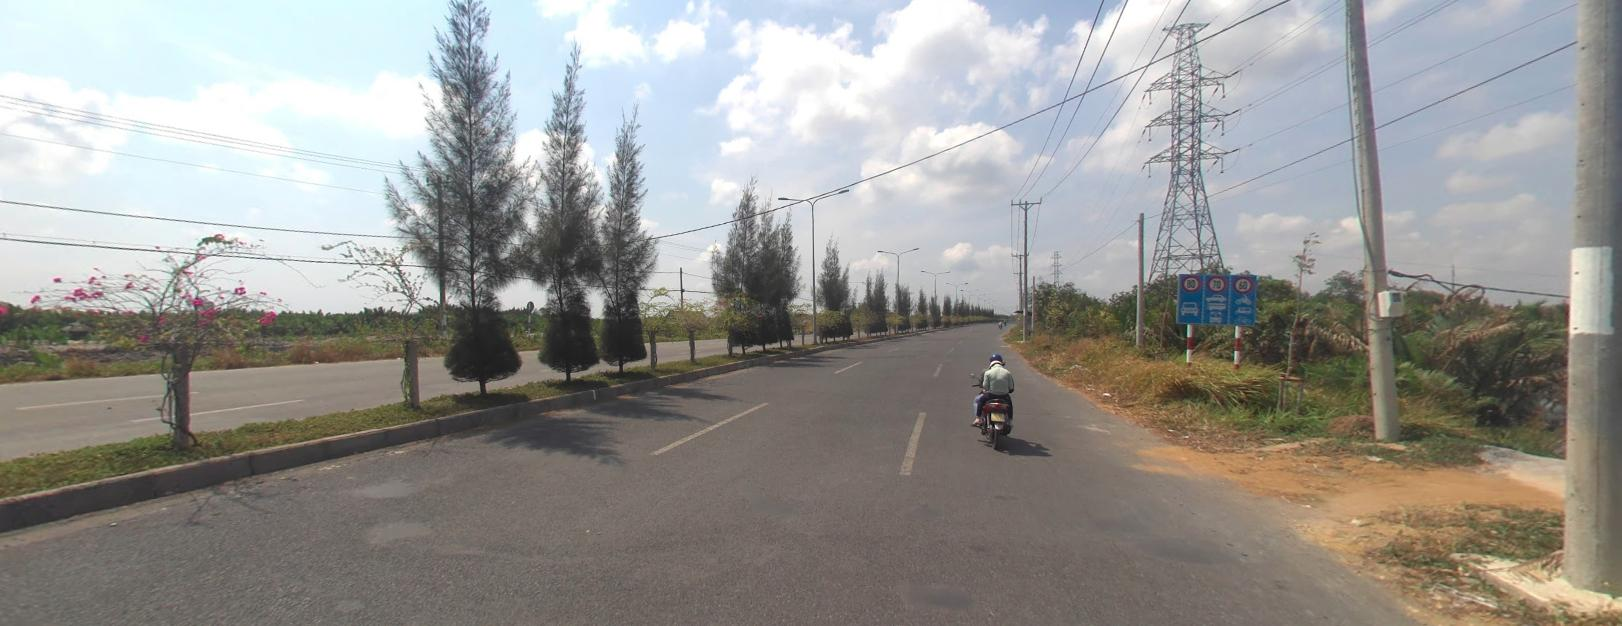Gioi han toc do: (1206, 273, 1226, 291), (1181, 272, 1200, 289), (1233, 274, 1252, 291)
